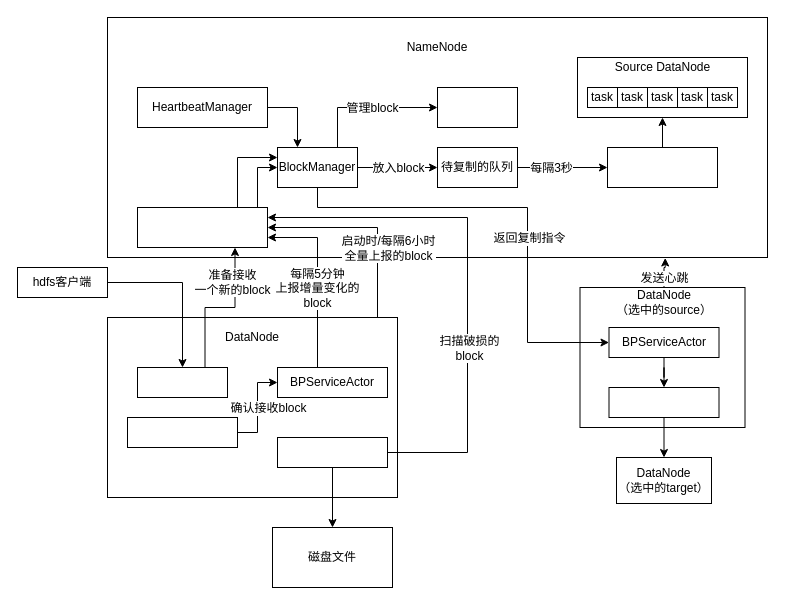
Some shapes in this 785 by 605 pixel diagram are drawn without their labels. The shapes that lost their labels are listed below. From the top down, each one's centre as x and y in pixels, then its label:
point 477,107: 内存数据结构
point 662,167: ReplicationMonitor
point 202,227: NameNodeRpcServer
point 182,382: 初始化pipeline
point 663,402: DataTransfer线程
point 182,432: PacketResponder
point 332,452: BlockScanner
